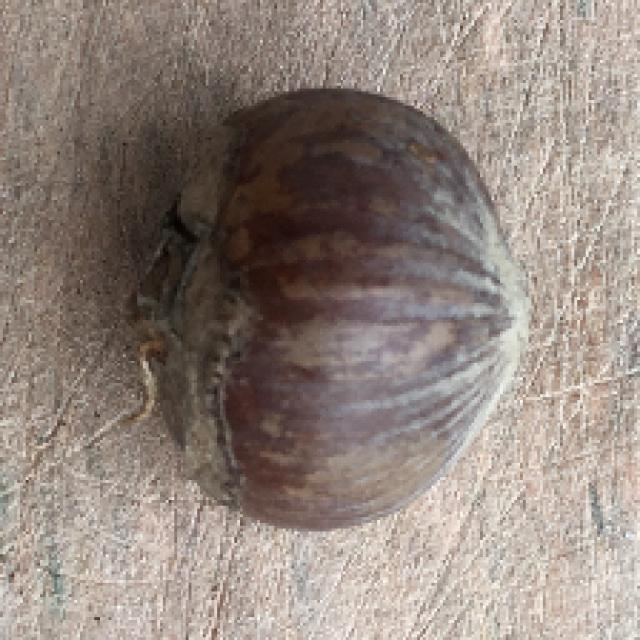damagedHazelnut: (141, 88, 535, 540)
